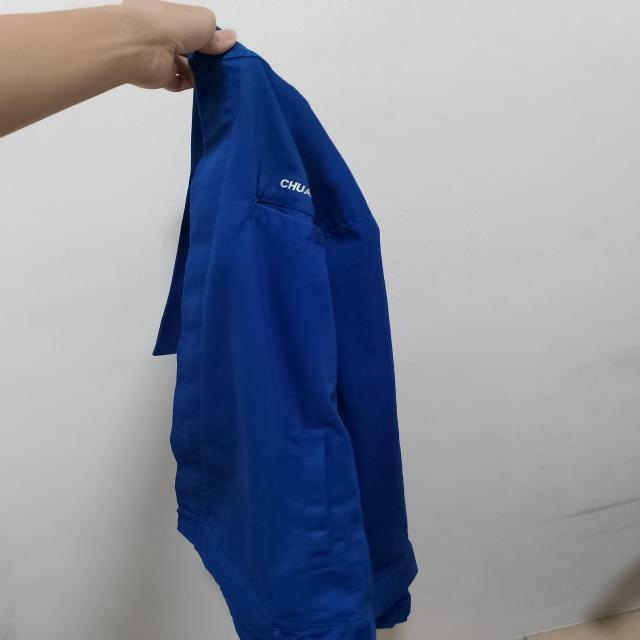person_without_labcoat: (153, 43, 417, 640)
